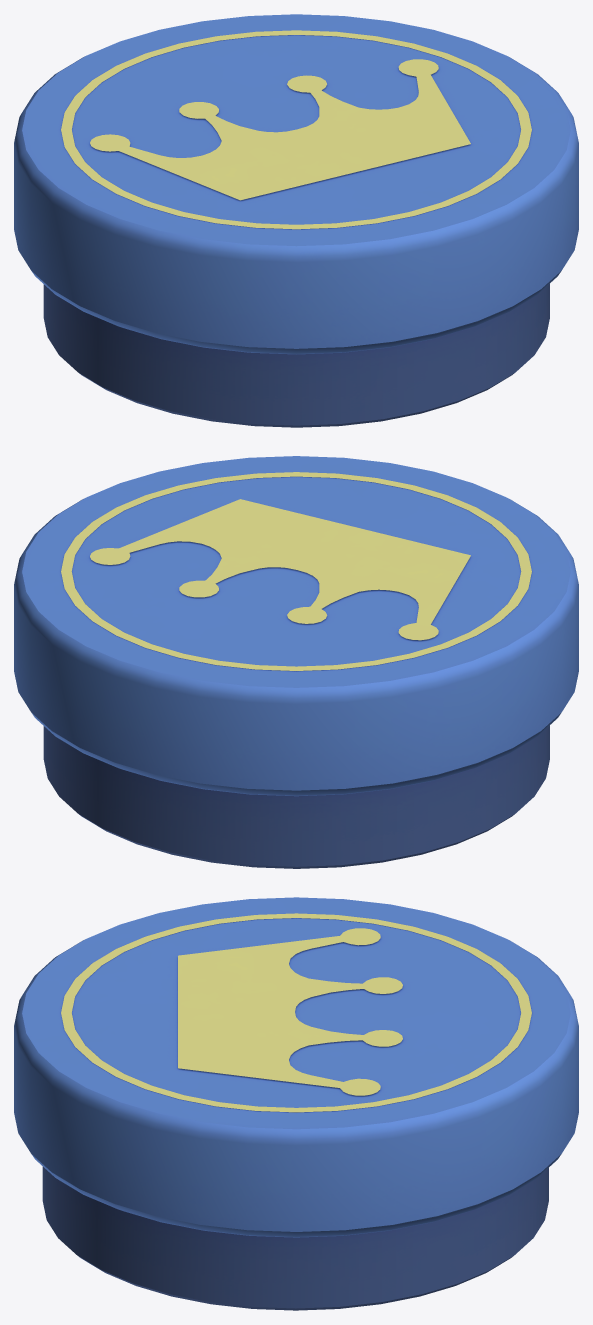
The model's file is SM_Penguin_Accounts_Stand.fbx.
3 renders of one model, top to bottom at view 1: azimuth 30°, elevation 25°; view 2: azimuth 150°, elevation 25°; view 3: azimuth 270°, elevation 25°, orthographic.
Visible parts, largest first — view 1: SM_Penguin_Accounts_Stand; view 2: SM_Penguin_Accounts_Stand; view 3: SM_Penguin_Accounts_Stand.
Boxes of the visible parts, bbox=[...] form: SM_Penguin_Accounts_Stand: bbox=[14, 14, 578, 427]; SM_Penguin_Accounts_Stand: bbox=[14, 456, 578, 868]; SM_Penguin_Accounts_Stand: bbox=[14, 897, 578, 1310].
Size of the model in its own units: 270 by 102 by 270.
